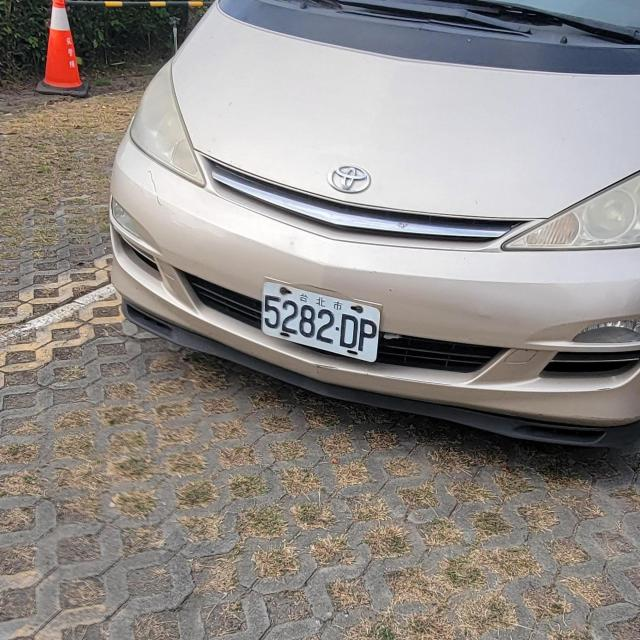W: (257, 275, 383, 363)
